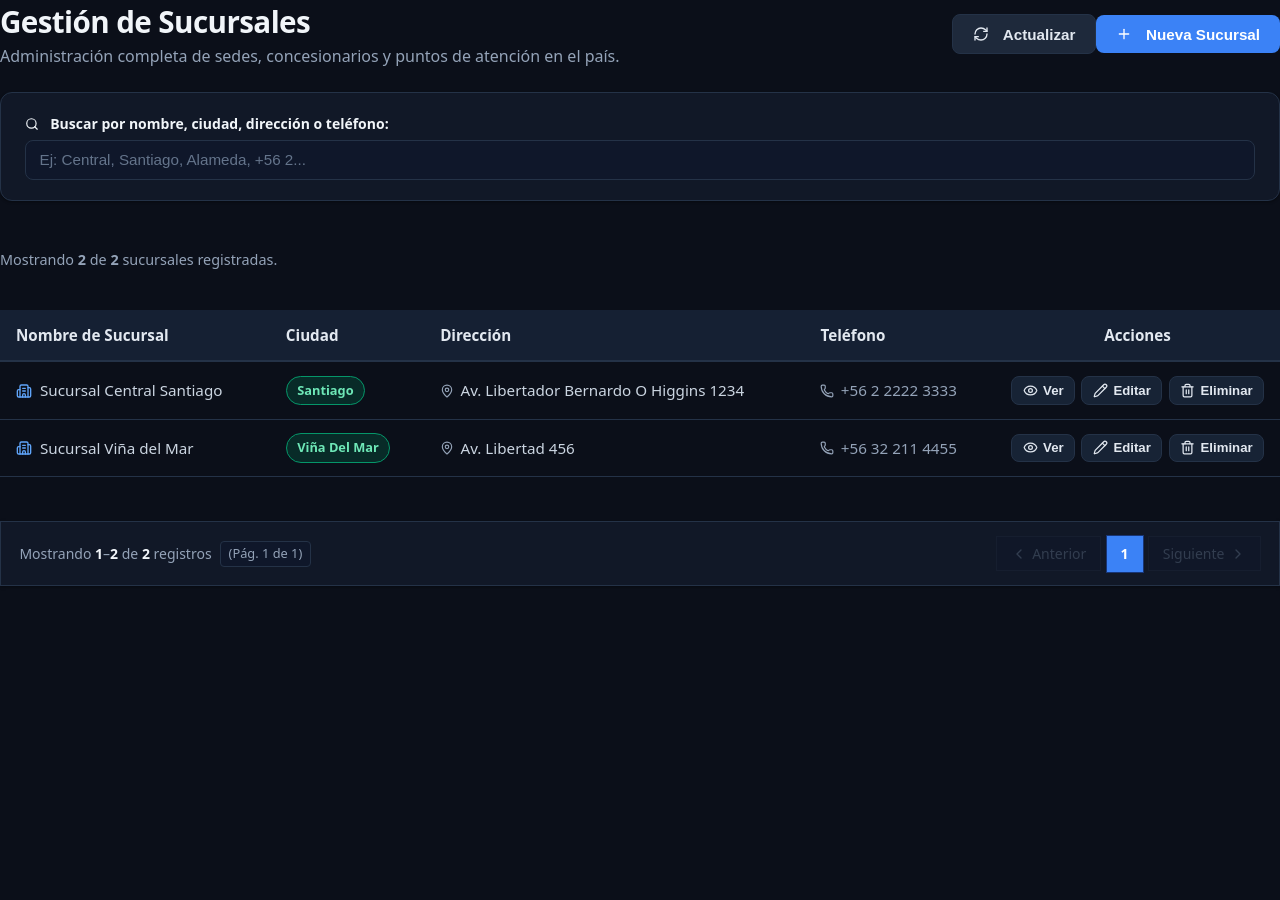
Test: Módulo CRUD de Sucursales (SucursalesPage.tsx) › permite a un usuario Admin abrir el modal de creación y guardar una nueva sucursal
Expected: the text "Sucursal Central Santiago" is shown, [40,379,222,402]
Click the button with aria-label "registrar nueva sucursal" at (1188, 34), box [1096,15,1279,53]
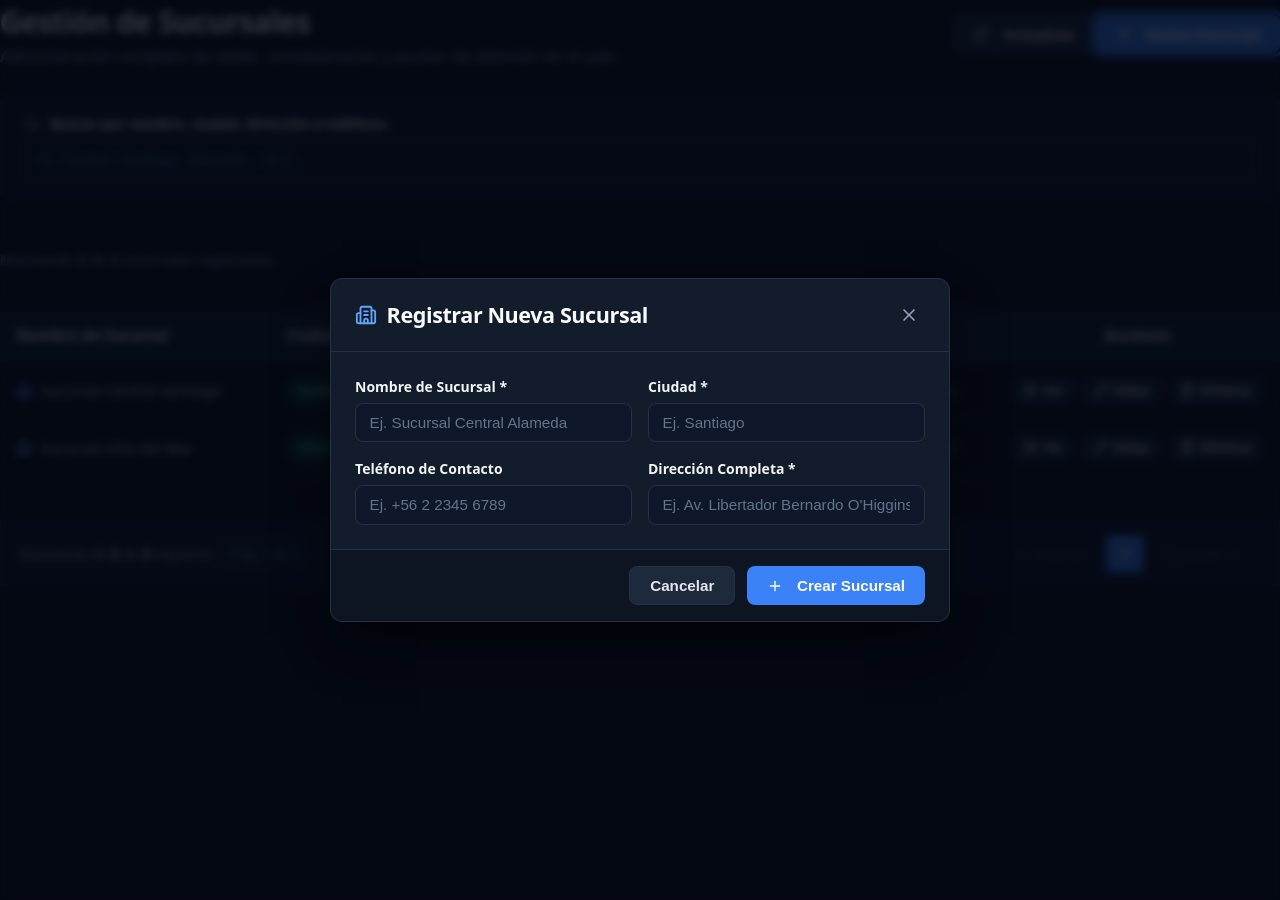
Result: the heading "Registrar Nueva Sucursal" is shown at [387,298,648,331]
Type "Sucursal Concepción" into the field labelled "Nombre de Sucursal *" at (494, 422), box [355,402,632,442]
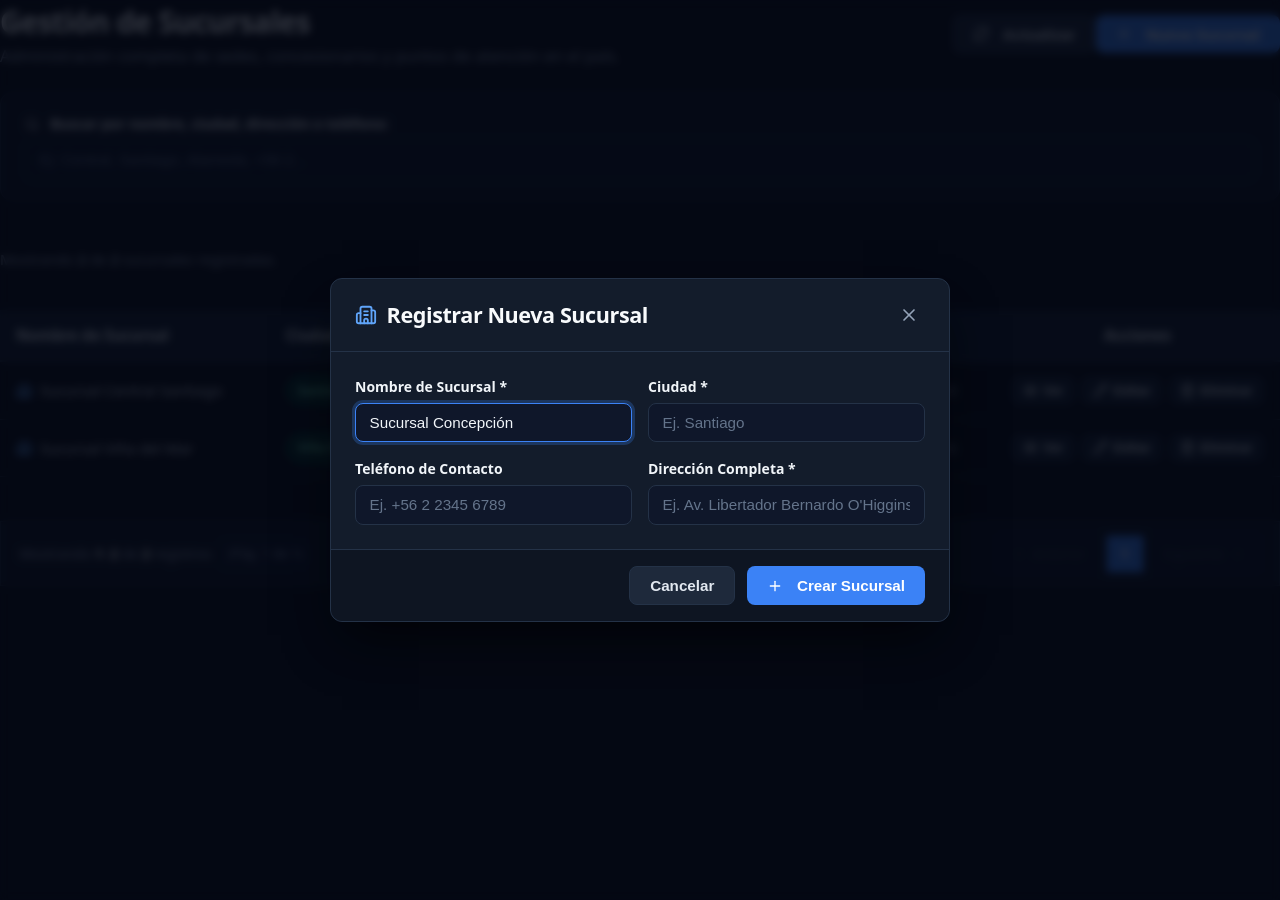
Type "Concepción" into the field labelled "Ciudad *" at (786, 422), box [648,402,925,442]
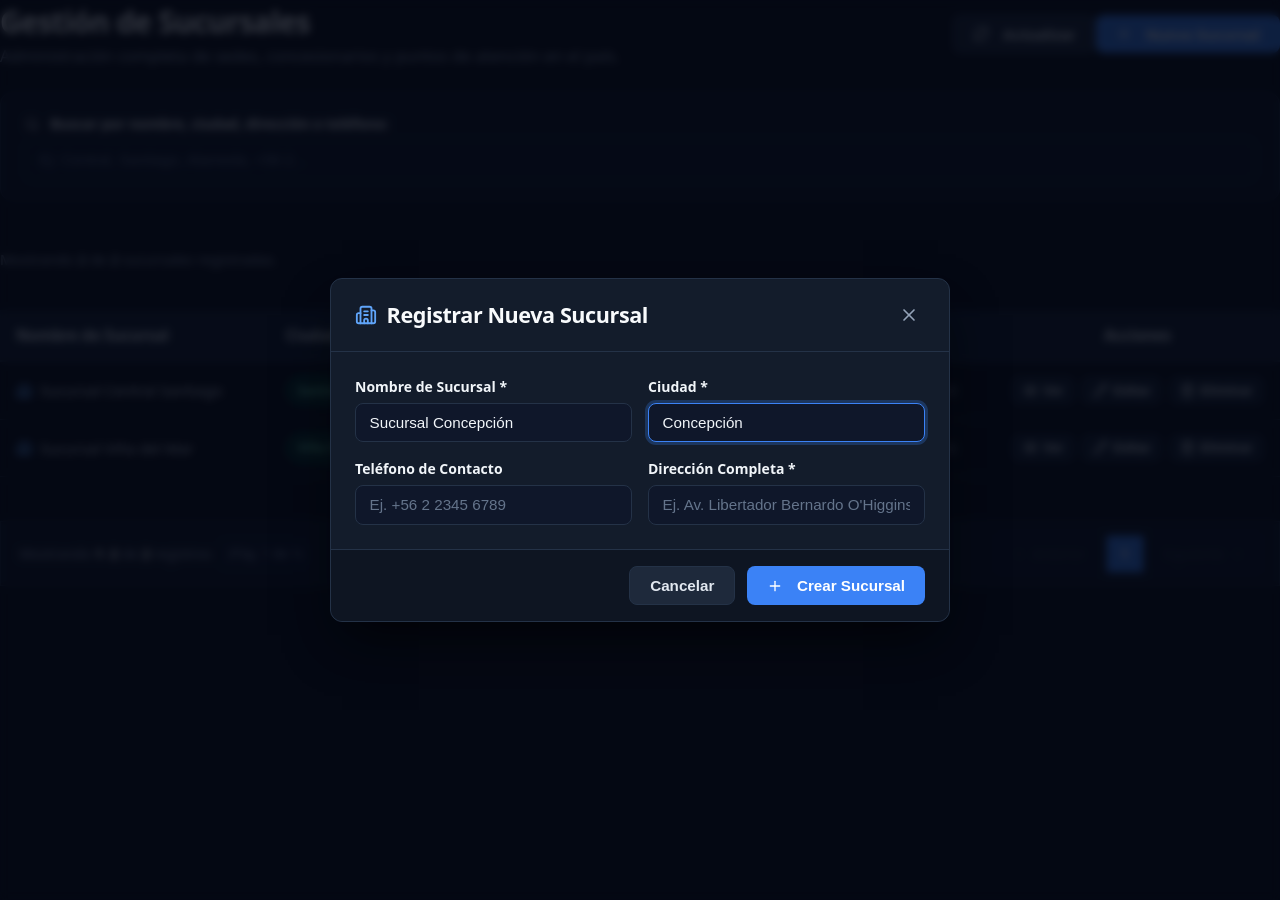
Type "Av. O Higgins 789" into the field labelled "Dirección Completa *" at (786, 505), box [648,485,925,525]
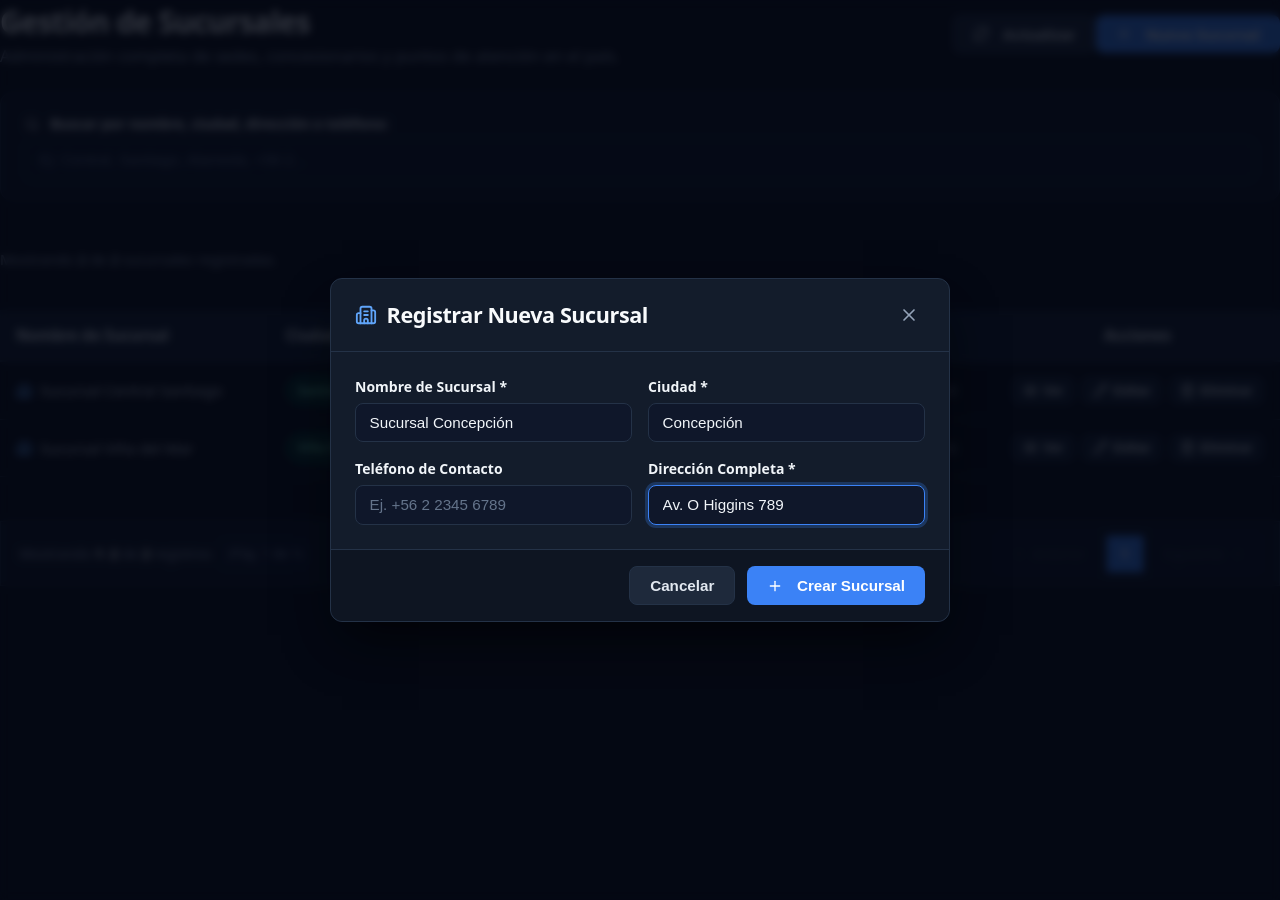
Type "+56 41 234 5678" into the field labelled "Teléfono de Contacto" at (494, 505), box [355,485,632,525]
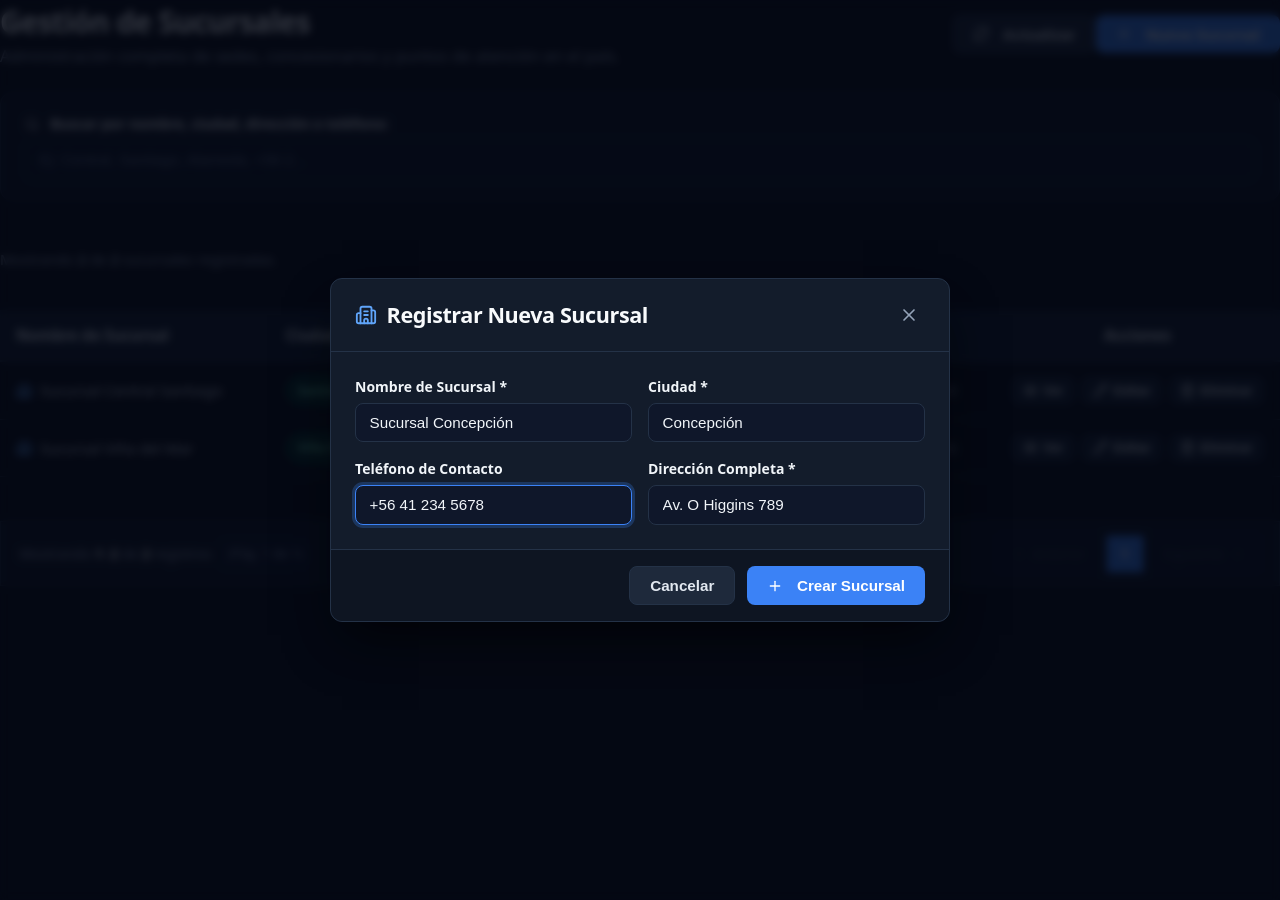
Click the button "Crear Sucursal" at (836, 586), box [747,566,925,606]
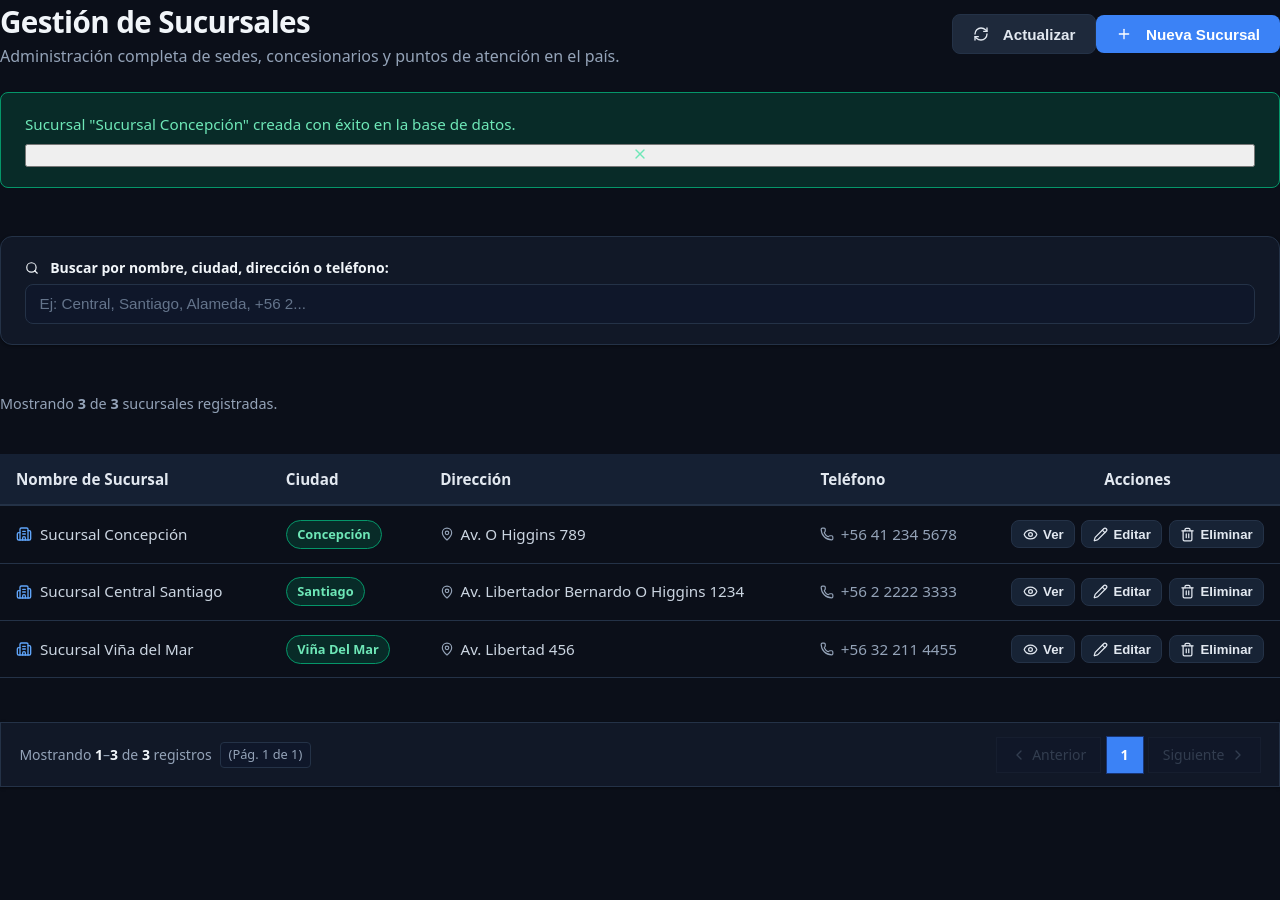
Result: the text "creada con éxito en la base de datos" is shown at [25,114,516,134]
